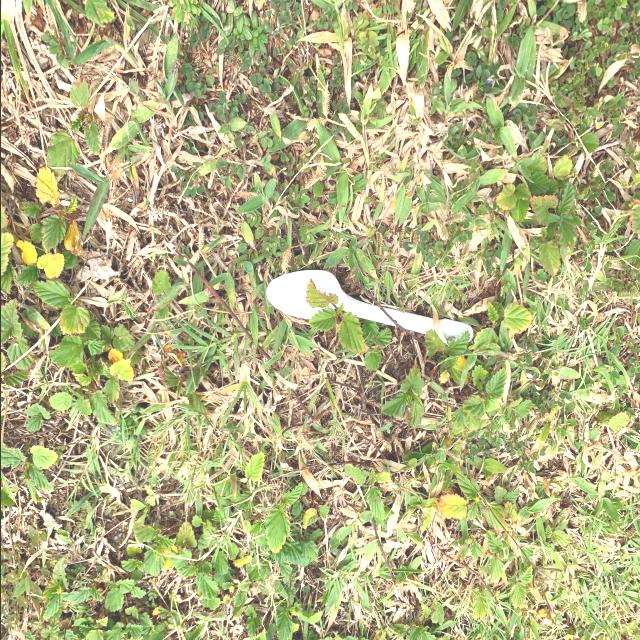Plastic utensils: (267, 270, 473, 342)
